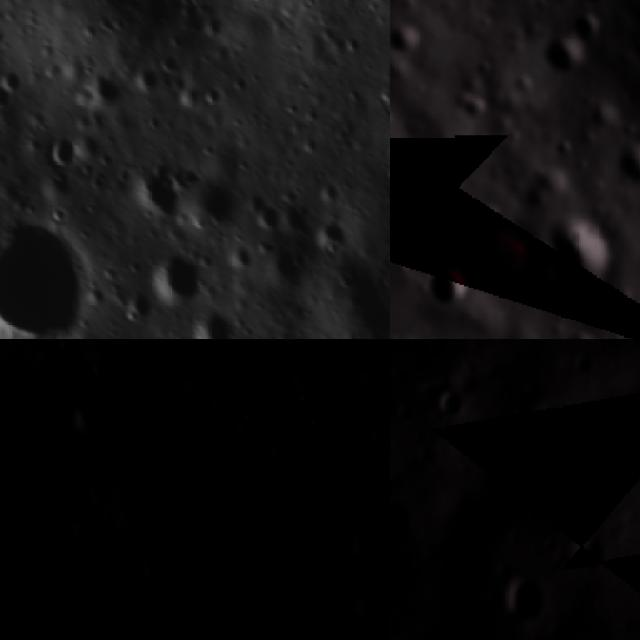crater: (0, 218, 89, 339), (547, 216, 620, 296), (466, 224, 539, 295), (126, 165, 184, 218), (540, 32, 590, 90), (423, 262, 476, 316), (194, 178, 236, 244), (500, 575, 550, 630), (155, 256, 204, 306), (525, 392, 574, 439), (390, 491, 423, 554), (565, 530, 613, 573), (312, 482, 352, 528), (428, 381, 468, 427), (347, 517, 387, 562), (608, 134, 640, 188), (390, 18, 430, 61), (250, 198, 287, 242), (313, 222, 351, 264), (49, 136, 85, 178), (116, 585, 152, 627), (566, 346, 602, 386), (352, 354, 388, 392), (572, 8, 604, 48), (455, 86, 489, 123), (67, 397, 101, 434), (138, 544, 172, 581), (0, 71, 28, 114), (200, 318, 243, 339), (171, 574, 196, 605), (0, 479, 13, 517), (578, 0, 614, 9), (562, 331, 599, 339)
